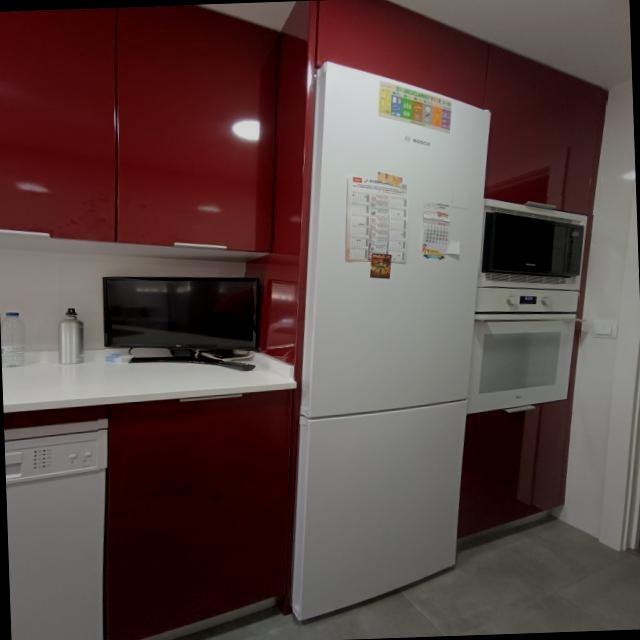cabinet: (0, 4, 282, 253), (299, 0, 607, 215), (104, 388, 298, 640), (459, 397, 573, 549)
countertop: (1, 355, 294, 414)
fridge: (293, 62, 491, 625)
microwave: (479, 199, 587, 291)
monitor: (103, 277, 262, 362)
oven: (467, 287, 579, 415)
